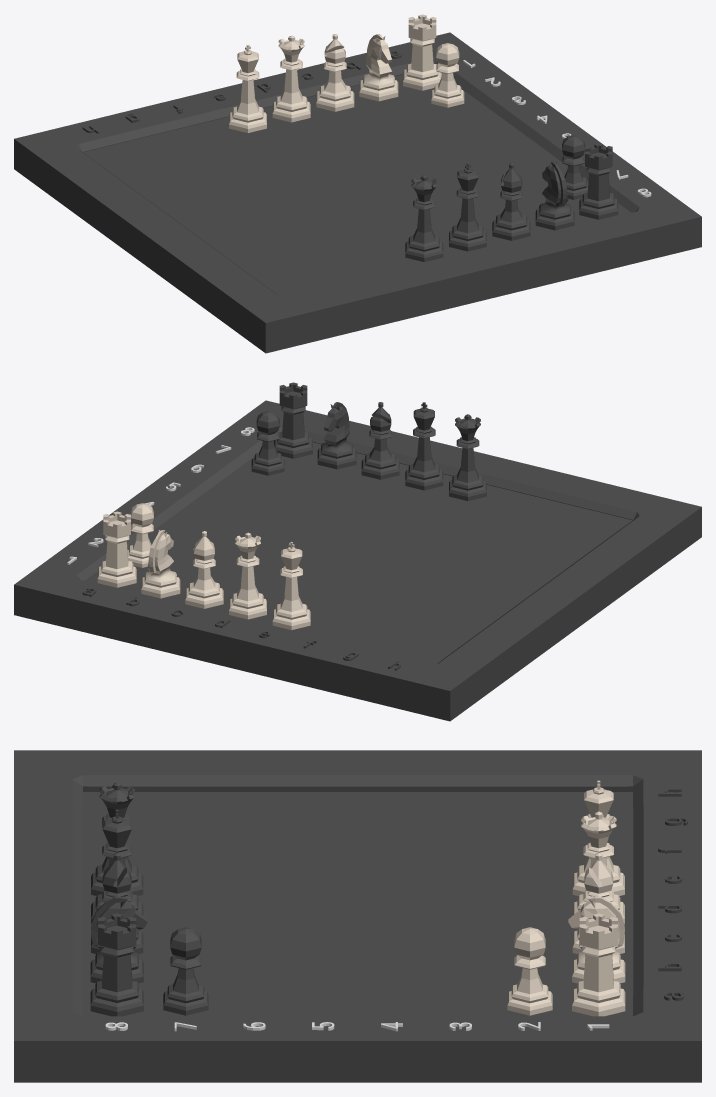
Rendered from chess-set-models.glb.
The picture shows the model from 3 angles, top to bottom: view 1: azimuth 30°, elevation 25°; view 2: azimuth 150°, elevation 25°; view 3: azimuth 270°, elevation 25°; orthographic projection. The views are drawn at different scales.
Parts seen in each view (by area): view 1: BoardOutline, Rook.002, Rook, Queen.001, Queen, King, KingDark, Knight, Knight.002, BishopDark, Bishop, Pawn (+1 smaller); view 2: BoardOutline, Rook, Rook.002, Queen.001, Queen, KingDark, King, Knight.002, Knight, Bishop, BishopDark, PawnDark (+1 smaller); view 3: BoardOutline, Rook.002, Rook, PawnDark, Pawn, Queen.001, Knight.002, Knight, Queen, King, KingDark, BishopDark (+1 smaller).
Boxes of the visible parts, box(x1,y1,x2,y2) form: BoardOutline: box(14, 32, 701, 353); Rook.002: box(579, 143, 618, 219); Rook: box(403, 14, 441, 90); Queen.001: box(405, 175, 443, 262); Queen: box(272, 35, 310, 122); King: box(229, 45, 266, 132); KingDark: box(449, 163, 486, 251); Knight: box(359, 34, 398, 101); Knight.002: box(535, 162, 574, 230); BishopDark: box(492, 163, 530, 240); Bishop: box(316, 34, 354, 111); Pawn: box(431, 43, 464, 107); BoardOutline: box(14, 400, 701, 721); Rook: box(97, 511, 136, 587); Rook.002: box(274, 382, 312, 458); Queen.001: box(449, 414, 486, 500); Queen: box(229, 532, 266, 619); KingDark: box(405, 402, 443, 490); King: box(272, 542, 310, 630); Knight.002: box(317, 402, 356, 469); Knight: box(141, 530, 180, 598); Bishop: box(185, 531, 223, 608); BishopDark: box(361, 402, 399, 479); PawnDark: box(251, 411, 284, 475); BoardOutline: box(14, 750, 701, 1082); Rook.002: box(90, 913, 143, 1016); Rook: box(572, 913, 625, 1016); PawnDark: box(163, 927, 208, 1015); Pawn: box(507, 927, 552, 1015); Queen.001: box(91, 782, 143, 895); Knight.002: box(90, 895, 147, 983); Knight: box(568, 895, 625, 983); Queen: box(572, 811, 624, 923); King: box(572, 780, 624, 895); KingDark: box(91, 809, 143, 923); BishopDark: box(91, 852, 143, 953).
Size of the model in its own units: 10 by 2.27 by 10.
